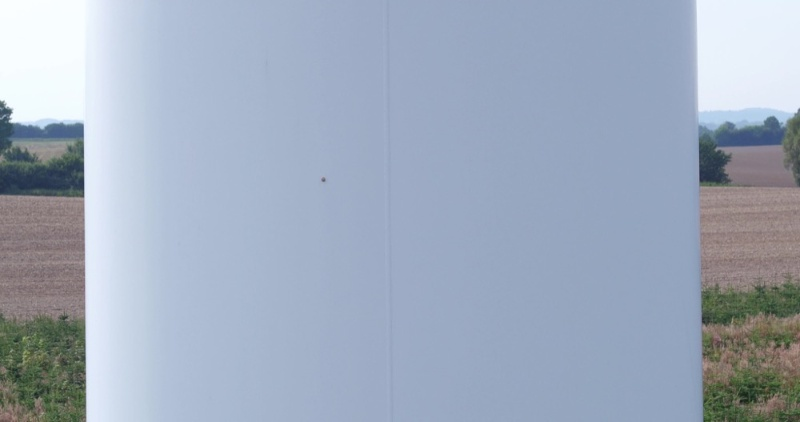weldseam: (378, 1, 401, 422)
